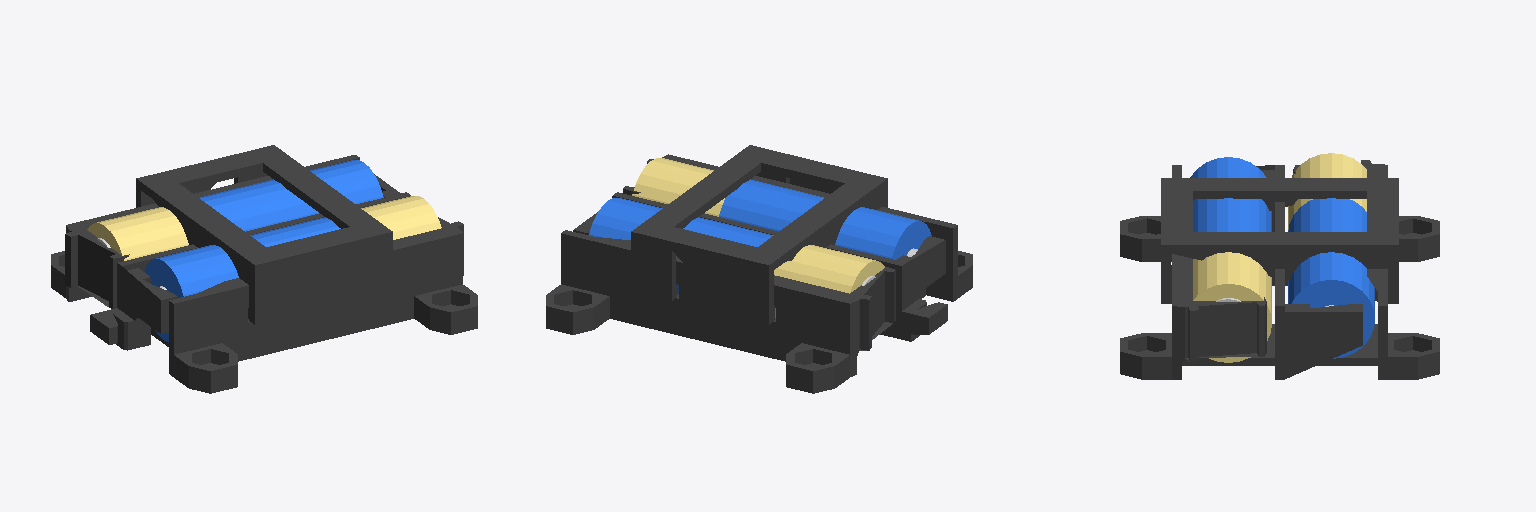
File: RepHolderV001R01.obj
The picture shows the model from 3 angles: view 1: azimuth 30°, elevation 25°; view 2: azimuth 150°, elevation 25°; view 3: azimuth 270°, elevation 25°; orthographic projection.
Parts seen in each view (by area): view 1: Mesh6 Group7 Model, Mesh1 Group1 Model, Mesh5 Group6 Group2 Model, Mesh10 Group12 Group8 Model, Mesh4 Group5 Group2 Model, Mesh9 Group11 Group8 Model; view 2: Mesh6 Group7 Model, Mesh1 Group1 Model, Mesh10 Group12 Group8 Model, Mesh4 Group5 Group2 Model, Mesh5 Group6 Group2 Model, Mesh9 Group11 Group8 Model; view 3: Mesh6 Group7 Model, Mesh1 Group1 Model, Mesh5 Group6 Group2 Model, Mesh10 Group12 Group8 Model, Mesh9 Group11 Group8 Model, Mesh4 Group5 Group2 Model.
Boxes of the visible parts, x1=… form: Mesh6 Group7 Model: x1=51, y1=155, x2=477, y2=393; Mesh1 Group1 Model: x1=136, y1=145, x2=392, y2=324; Mesh5 Group6 Group2 Model: x1=200, y1=160, x2=383, y2=231; Mesh10 Group12 Group8 Model: x1=145, y1=217, x2=340, y2=342; Mesh4 Group5 Group2 Model: x1=87, y1=207, x2=188, y2=305; Mesh9 Group11 Group8 Model: x1=361, y1=196, x2=441, y2=239; Mesh6 Group7 Model: x1=546, y1=154, x2=972, y2=393; Mesh1 Group1 Model: x1=631, y1=145, x2=887, y2=324; Mesh10 Group12 Group8 Model: x1=719, y1=179, x2=931, y2=259; Mesh4 Group5 Group2 Model: x1=774, y1=245, x2=884, y2=317; Mesh5 Group6 Group2 Model: x1=589, y1=198, x2=773, y2=293; Mesh9 Group11 Group8 Model: x1=632, y1=158, x2=724, y2=216; Mesh6 Group7 Model: x1=1120, y1=160, x2=1439, y2=379; Mesh1 Group1 Model: x1=1161, y1=178, x2=1398, y2=303; Mesh5 Group6 Group2 Model: x1=1288, y1=198, x2=1374, y2=358; Mesh10 Group12 Group8 Model: x1=1190, y1=157, x2=1271, y2=231; Mesh9 Group11 Group8 Model: x1=1193, y1=252, x2=1271, y2=362; Mesh4 Group5 Group2 Model: x1=1288, y1=153, x2=1366, y2=229.
Bounding box in the file's own units: 60.36 × 17.25 × 51.16.